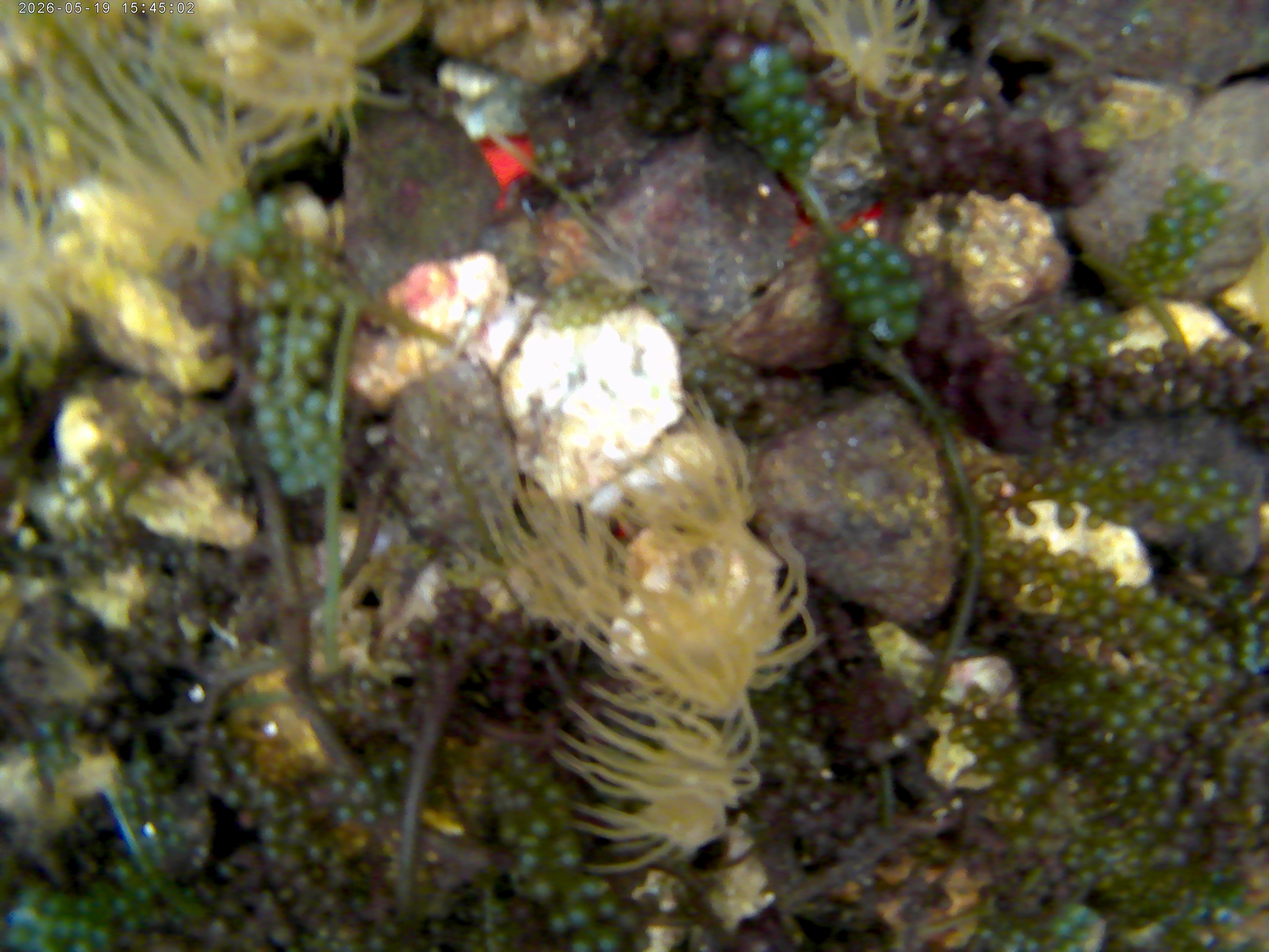Darkening: (132, 674, 156, 697), (271, 924, 294, 947), (1162, 337, 1180, 364), (206, 919, 228, 941), (1229, 384, 1250, 407), (380, 693, 402, 714), (110, 719, 131, 741), (1202, 390, 1222, 413), (982, 477, 1003, 498), (86, 706, 107, 727), (1153, 394, 1174, 414), (1072, 393, 1092, 414), (794, 782, 814, 803), (910, 144, 930, 165), (750, 379, 770, 400), (1071, 367, 1090, 389), (405, 618, 428, 636), (1243, 355, 1263, 375), (766, 792, 786, 812), (242, 918, 262, 938), (501, 616, 521, 635), (505, 683, 524, 703), (1058, 417, 1078, 436), (771, 706, 791, 725), (1193, 757, 1213, 776), (356, 677, 377, 695), (1106, 372, 1127, 390), (1127, 372, 1148, 390), (990, 516, 1012, 533), (944, 145, 963, 164), (1173, 830, 1193, 848), (293, 873, 311, 892), (795, 694, 814, 712), (935, 117, 954, 135), (1097, 390, 1117, 407), (1224, 356, 1241, 376), (1155, 364, 1176, 380), (820, 655, 838, 673), (432, 660, 450, 678), (320, 893, 338, 911), (1017, 506, 1036, 523), (1014, 473, 1033, 490), (1120, 398, 1137, 417), (1066, 742, 1086, 758), (1206, 337, 1221, 358), (481, 625, 498, 643), (238, 811, 255, 829), (463, 588, 481, 605), (268, 868, 285, 886), (475, 598, 491, 617), (1141, 348, 1158, 365), (145, 551, 162, 568), (509, 644, 526, 661), (1172, 736, 1190, 752), (1045, 475, 1060, 494), (457, 614, 473, 631), (505, 700, 522, 716), (414, 682, 430, 699), (209, 588, 226, 604), (514, 904, 530, 920), (517, 662, 533, 678), (118, 702, 135, 717), (433, 590, 447, 608), (1120, 348, 1135, 364), (791, 809, 807, 824), (839, 821, 855, 836), (456, 629, 471, 645), (815, 832, 831, 847), (820, 811, 834, 826), (1136, 389, 1149, 404), (1065, 437, 1079, 450)
Harvestable: (37, 492, 67, 523), (255, 404, 284, 432), (210, 237, 238, 265), (778, 69, 807, 95), (299, 419, 325, 447), (240, 231, 267, 257), (749, 79, 775, 105), (303, 391, 327, 419), (529, 878, 555, 903), (220, 192, 245, 217), (259, 211, 284, 236), (307, 320, 333, 344), (894, 310, 918, 336), (258, 313, 282, 338), (294, 337, 318, 362), (280, 472, 304, 497), (749, 49, 773, 74), (269, 282, 293, 306), (268, 447, 292, 471), (727, 63, 750, 88), (1066, 903, 1092, 925), (1208, 639, 1232, 662), (567, 903, 590, 927), (249, 386, 273, 409), (284, 380, 308, 403), (1182, 483, 1205, 507), (315, 294, 338, 318), (847, 299, 870, 323), (1014, 747, 1038, 770), (1096, 597, 1119, 620), (131, 757, 154, 780), (260, 195, 283, 218), (770, 48, 793, 71), (1162, 185, 1183, 210), (1145, 617, 1167, 640), (867, 295, 890, 317), (263, 427, 286, 449), (618, 909, 640, 932), (1029, 808, 1051, 831), (301, 258, 324, 280), (1161, 780, 1183, 803), (43, 740, 65, 763), (513, 789, 534, 813), (60, 474, 81, 498), (1037, 837, 1061, 858), (1012, 833, 1034, 855), (1071, 587, 1093, 609), (1016, 776, 1039, 797), (554, 833, 577, 854), (1209, 182, 1233, 202), (1132, 703, 1153, 725), (771, 95, 792, 117), (862, 273, 884, 294), (888, 285, 910, 306), (305, 358, 326, 380), (1047, 815, 1068, 837), (6, 928, 28, 949), (1173, 162, 1193, 185), (1200, 165, 1223, 185), (1202, 463, 1221, 487), (1189, 647, 1210, 668), (1152, 808, 1173, 829), (1082, 299, 1103, 320), (1168, 637, 1190, 657), (64, 609, 84, 631), (55, 916, 75, 938), (549, 806, 571, 826), (1162, 504, 1183, 524), (257, 359, 277, 380), (258, 256, 278, 277), (1066, 321, 1087, 341), (1137, 586, 1157, 607), (1147, 723, 1168, 743), (36, 915, 56, 936), (1107, 710, 1127, 730), (232, 759, 252, 779), (1068, 484, 1088, 504), (1151, 262, 1170, 283), (1221, 480, 1242, 499), (500, 823, 519, 844), (1058, 507, 1077, 528), (1062, 549, 1084, 567), (561, 848, 579, 870), (1184, 514, 1204, 533), (1114, 507, 1134, 526), (1052, 919, 1072, 938), (1041, 763, 1060, 783), (92, 925, 111, 945), (1203, 504, 1223, 523), (1206, 208, 1226, 227), (1159, 243, 1179, 262), (632, 933, 652, 952), (905, 281, 924, 301), (1088, 332, 1108, 351), (1237, 495, 1257, 514), (1151, 845, 1171, 864), (591, 878, 611, 897), (1138, 497, 1158, 516), (289, 820, 308, 840), (1188, 175, 1208, 194), (1227, 516, 1245, 537), (1175, 463, 1196, 481), (1125, 747, 1146, 765), (1178, 256, 1195, 278), (843, 277, 862, 296), (353, 779, 372, 798), (36, 719, 55, 738), (315, 440, 334, 459), (1047, 790, 1066, 809), (1110, 321, 1129, 340), (261, 339, 279, 359), (1079, 613, 1099, 631), (752, 109, 770, 129), (260, 789, 280, 807), (1051, 361, 1069, 381), (0, 396, 15, 420), (1211, 666, 1232, 683), (599, 933, 620, 950), (1134, 828, 1155, 845), (1107, 461, 1129, 477), (1096, 496, 1114, 515), (1085, 469, 1103, 488), (1192, 672, 1210, 691), (1189, 618, 1207, 637), (545, 786, 564, 804), (1136, 773, 1154, 792), (1118, 586, 1136, 605), (113, 896, 132, 914), (261, 824, 280, 842), (1084, 703, 1103, 721), (1126, 681, 1145, 699), (798, 118, 816, 137), (74, 918, 92, 937), (79, 464, 97, 483), (1178, 811, 1197, 829), (1092, 671, 1110, 690), (245, 774, 263, 793), (1159, 705, 1178, 723), (1160, 219, 1180, 236), (550, 916, 568, 934), (855, 251, 873, 269), (799, 141, 817, 159), (772, 138, 790, 156), (1169, 849, 1187, 867), (1242, 639, 1260, 657), (520, 851, 539, 868), (792, 99, 809, 118), (1075, 350, 1094, 367), (600, 899, 616, 919), (1187, 196, 1205, 213), (1144, 237, 1161, 255), (1219, 498, 1236, 516), (223, 789, 240, 807), (1067, 681, 1085, 698), (1123, 726, 1141, 743), (1185, 234, 1203, 251), (992, 733, 1010, 750), (1085, 513, 1103, 530), (1023, 349, 1041, 366), (330, 778, 347, 796), (837, 241, 854, 259), (885, 252, 902, 270), (1149, 692, 1167, 709), (371, 763, 388, 781), (1035, 314, 1053, 331), (115, 863, 133, 880), (1097, 573, 1115, 590), (1032, 536, 1048, 555), (1213, 907, 1232, 923), (536, 881, 551, 901), (1150, 481, 1167, 498), (1157, 596, 1174, 613), (63, 719, 80, 736), (867, 238, 884, 255), (1038, 554, 1055, 571), (289, 799, 306, 816), (1018, 568, 1035, 585), (1079, 869, 1096, 886), (1171, 608, 1187, 626), (524, 773, 542, 789), (985, 759, 1003, 775), (551, 138, 567, 156), (308, 844, 324, 862), (495, 783, 513, 799), (1131, 606, 1147, 624), (987, 571, 1005, 587), (571, 939, 593, 952), (532, 822, 551, 837), (1203, 224, 1217, 244), (519, 836, 540, 849), (1117, 619, 1133, 636), (264, 846, 281, 862), (135, 886, 152, 902), (381, 800, 398, 816), (1037, 331, 1054, 347), (368, 935, 385, 951), (809, 105, 826, 121), (76, 898, 93, 914), (1007, 721, 1024, 737), (1126, 242, 1144, 257), (836, 265, 852, 281), (1103, 624, 1119, 640), (1037, 587, 1053, 603), (1010, 928, 1026, 944), (1243, 622, 1259, 638), (123, 915, 139, 931), (999, 802, 1015, 818), (1137, 269, 1152, 286), (336, 806, 353, 821), (1060, 604, 1077, 619), (1118, 475, 1132, 493), (72, 940, 93, 952), (581, 881, 596, 897), (1148, 646, 1164, 661), (1081, 560, 1096, 576), (1010, 542, 1025, 558), (1005, 559, 1021, 574), (218, 863, 234, 878), (965, 736, 981, 751), (1016, 330, 1032, 345), (513, 756, 529, 771), (1069, 842, 1085, 857), (361, 809, 376, 824), (142, 792, 157, 807), (120, 786, 135, 801), (1145, 792, 1160, 807), (489, 771, 504, 786), (1236, 600, 1251, 615), (429, 921, 444, 936), (1127, 636, 1142, 651), (1040, 571, 1055, 586), (1066, 855, 1081, 870), (1149, 761, 1164, 776), (1164, 658, 1180, 672), (1024, 938, 1040, 952), (160, 812, 174, 828), (1121, 806, 1137, 820), (977, 744, 991, 759), (124, 801, 139, 815), (1115, 774, 1130, 788), (1022, 548, 1036, 563), (991, 788, 1005, 802), (392, 758, 406, 772), (1081, 575, 1095, 589), (1124, 259, 1137, 274), (1003, 941, 1020, 952), (1258, 608, 1269, 623), (1182, 222, 1195, 232), (428, 946, 440, 952)
